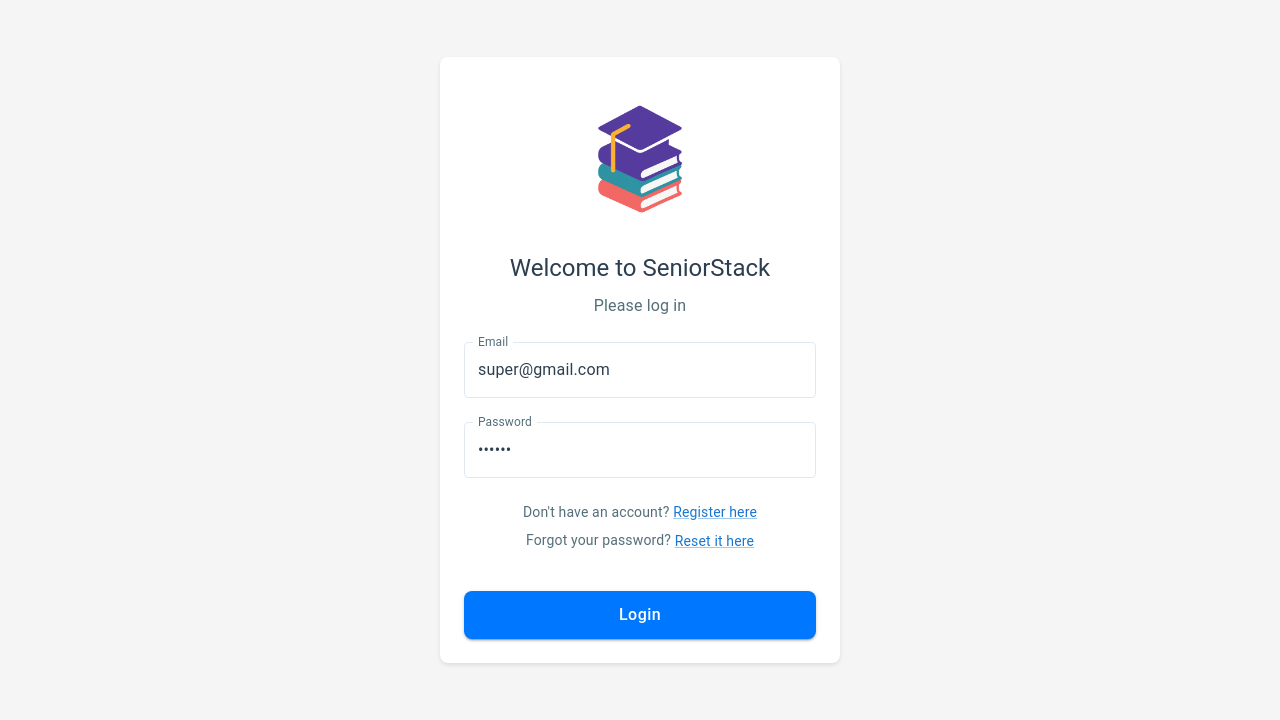
Test case: LoginForm Component › opens and closes reset password dialog
Click the button "Reset it here": (714,541) x1=675 y1=531 x2=754 y2=551
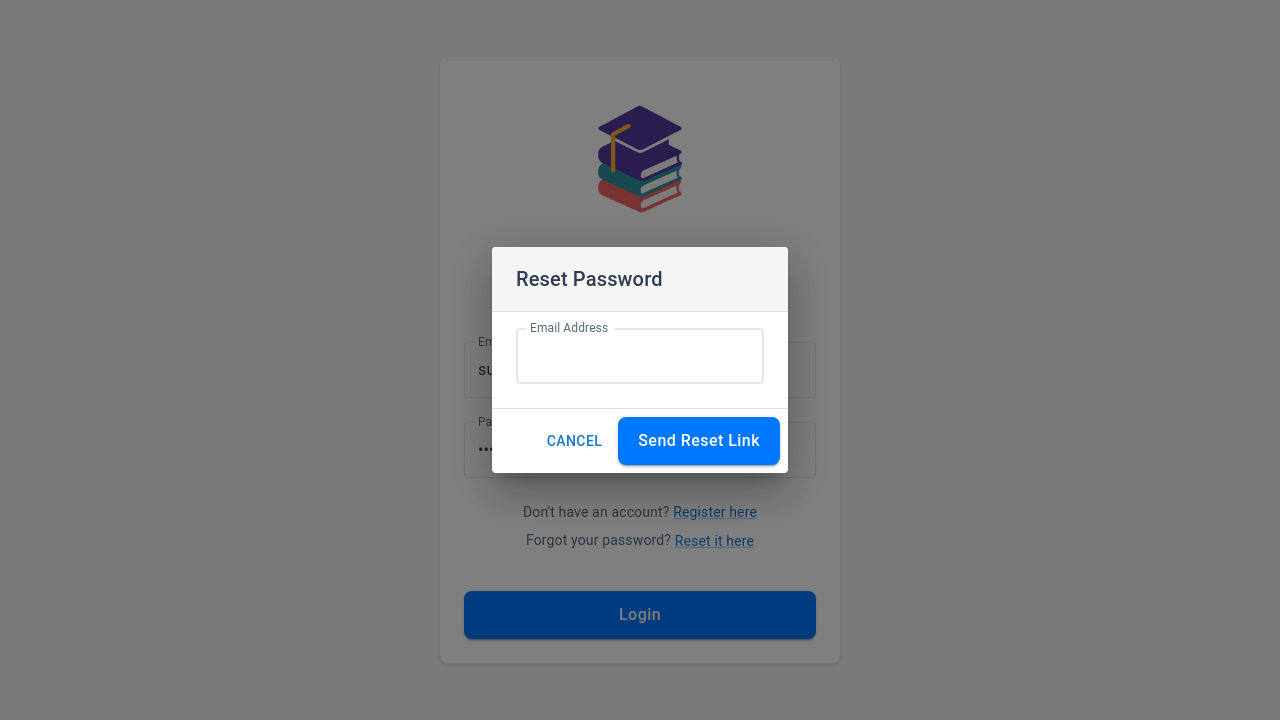
Now the heading "Reset Password" is shown, box x1=492 y1=247 x2=788 y2=312
Click the button "Cancel": (575,441) x1=539 y1=423 x2=610 y2=459
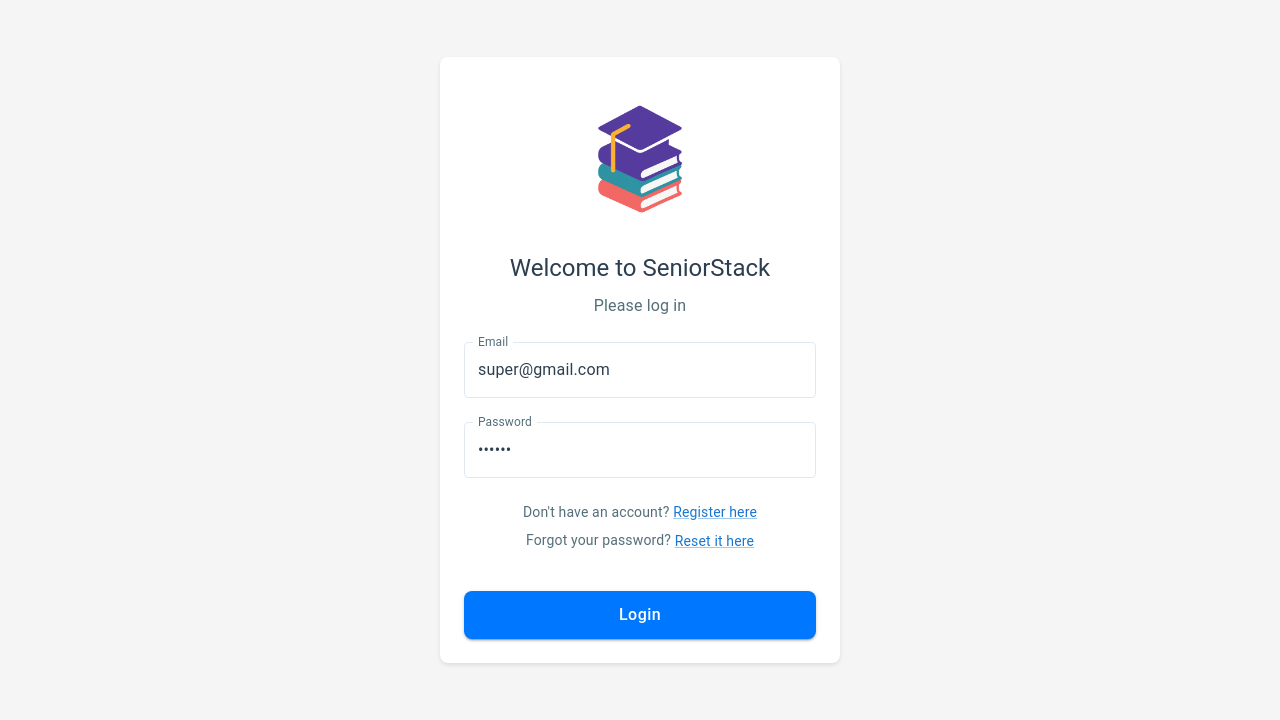
Now the heading "Reset Password" is gone
